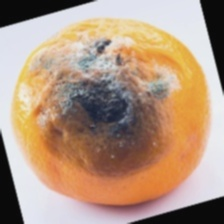orange: (47, 32, 196, 183)
